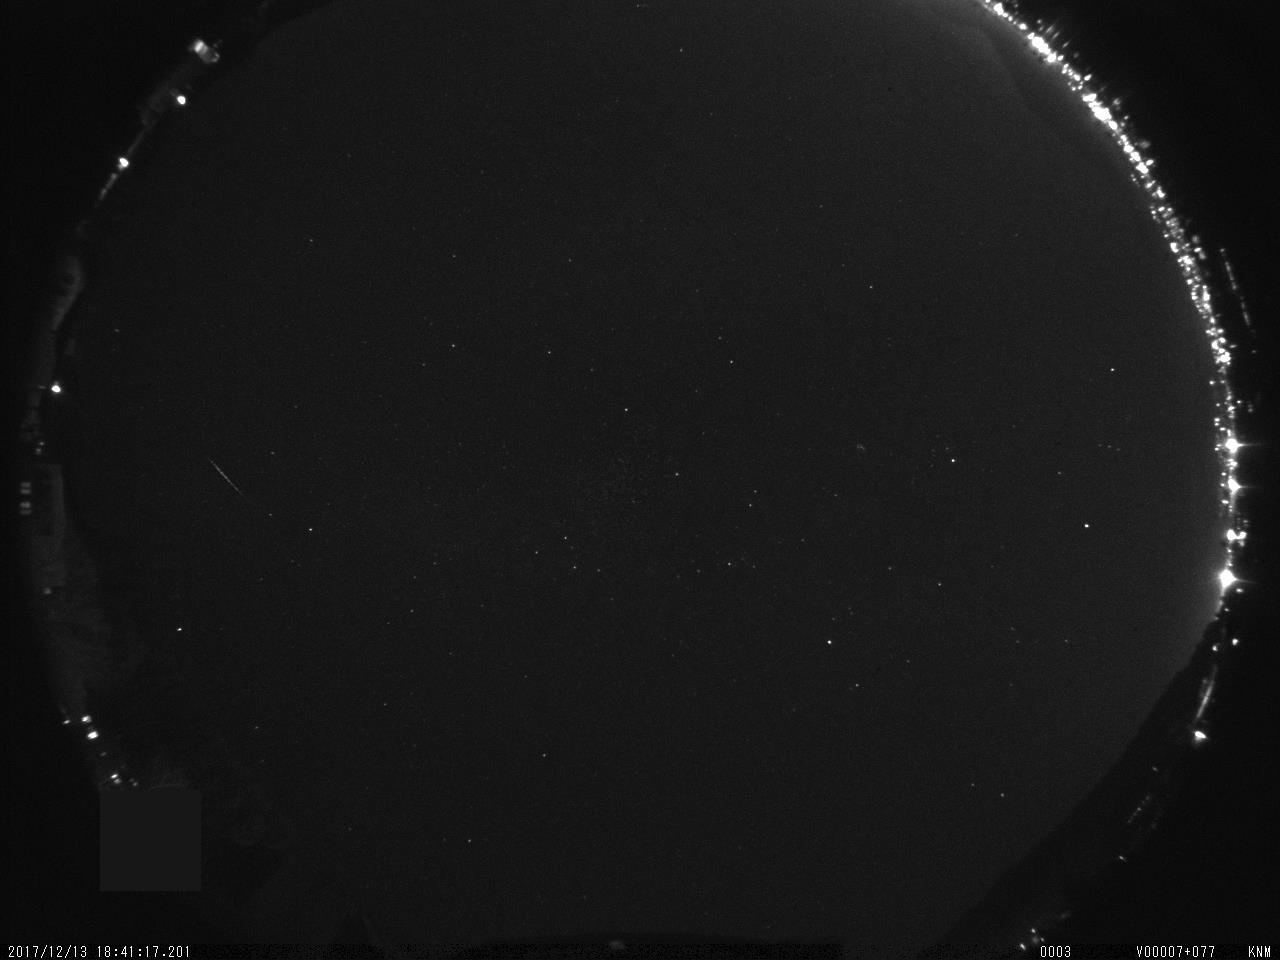meteor: (187, 443, 253, 510)
